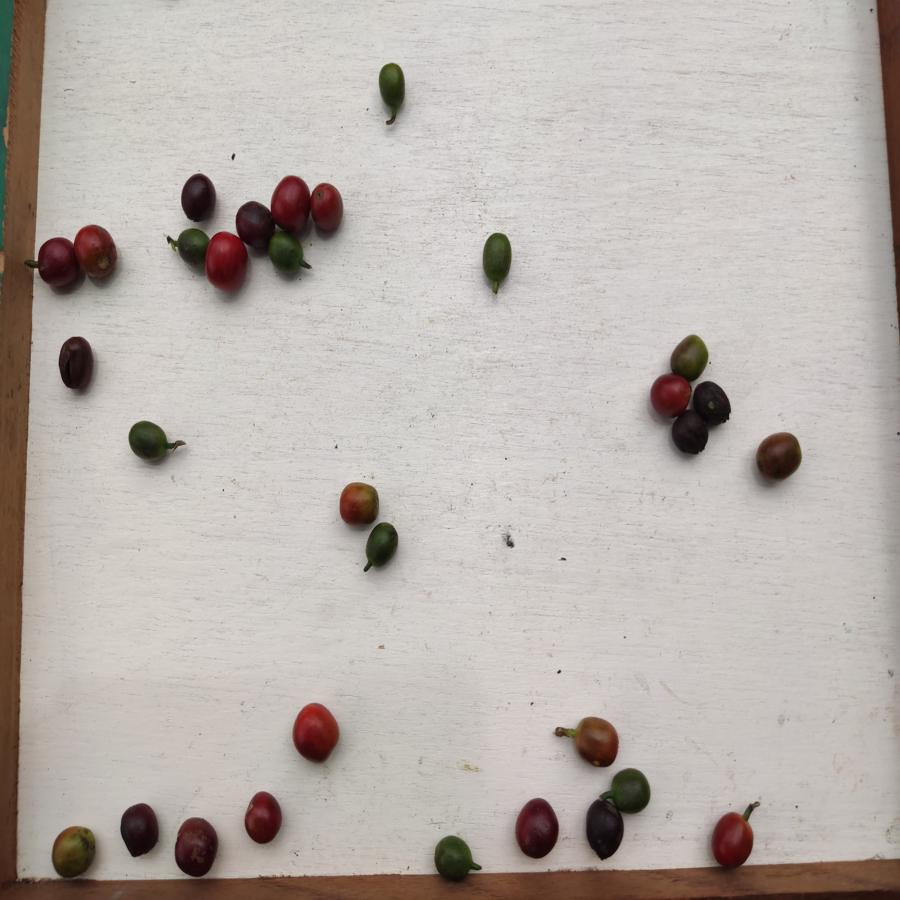Inmaduro: (609, 766, 653, 813), (432, 834, 474, 883), (481, 229, 514, 288), (372, 62, 411, 111), (126, 420, 170, 463), (364, 522, 401, 568), (270, 233, 311, 274), (176, 225, 208, 268)
Maduro: (290, 702, 341, 764), (76, 224, 120, 283), (711, 811, 754, 867), (206, 231, 245, 290), (272, 174, 310, 231), (311, 180, 345, 233), (650, 374, 687, 416)
Pinton: (572, 713, 620, 769), (51, 825, 97, 880), (339, 480, 380, 525), (671, 332, 709, 373)
Sobremaduro: (172, 817, 219, 878), (514, 797, 559, 859), (584, 797, 624, 860), (118, 803, 161, 861), (34, 237, 77, 293), (242, 792, 284, 845), (58, 337, 95, 393), (692, 380, 733, 428), (178, 174, 218, 223), (235, 200, 275, 248), (670, 409, 709, 458)
